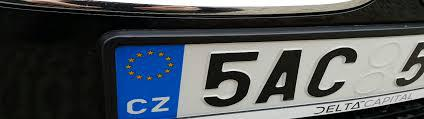5: (202, 50, 256, 106), (395, 41, 424, 87)
A: (257, 50, 304, 103)
C: (307, 48, 360, 98)
